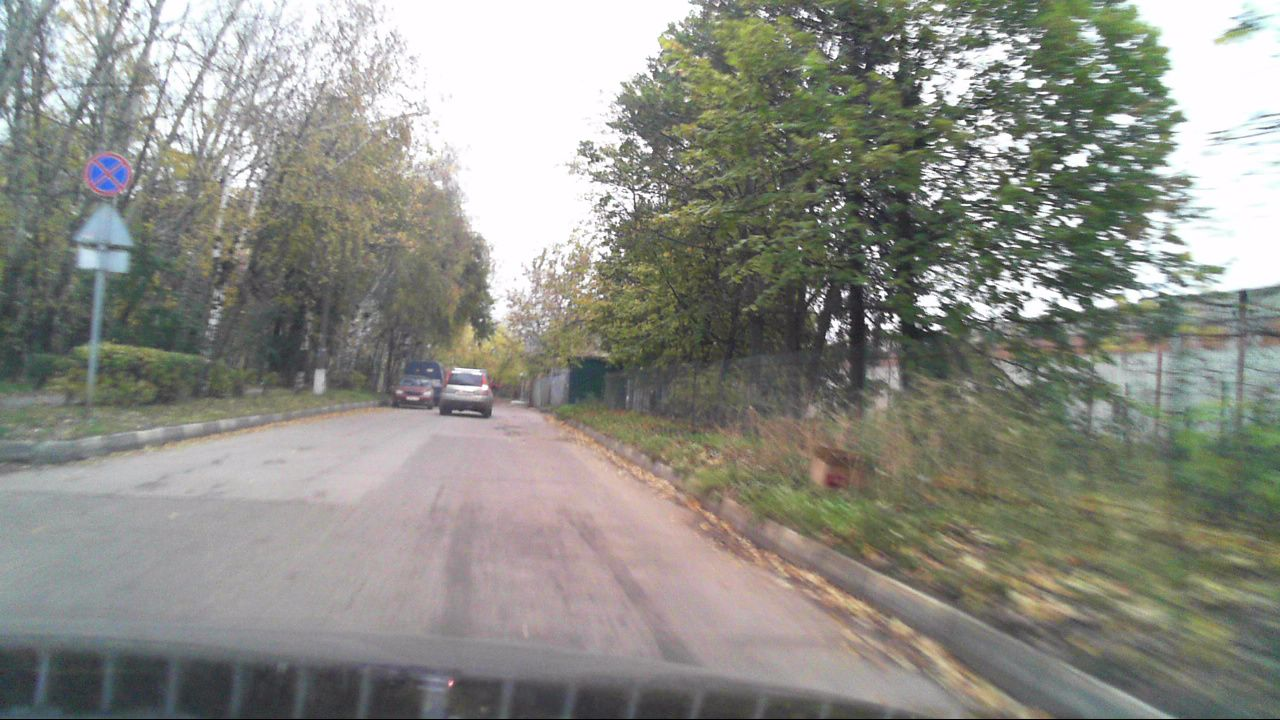No Parking: (83, 153, 129, 197)
